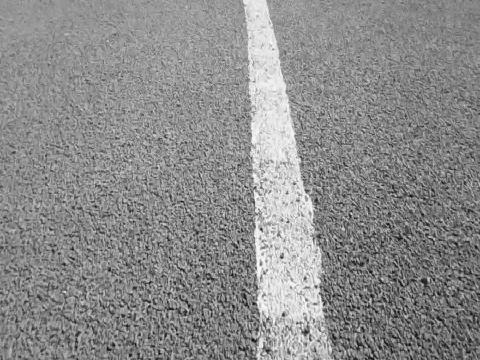Lines: (240, 0, 333, 360)
